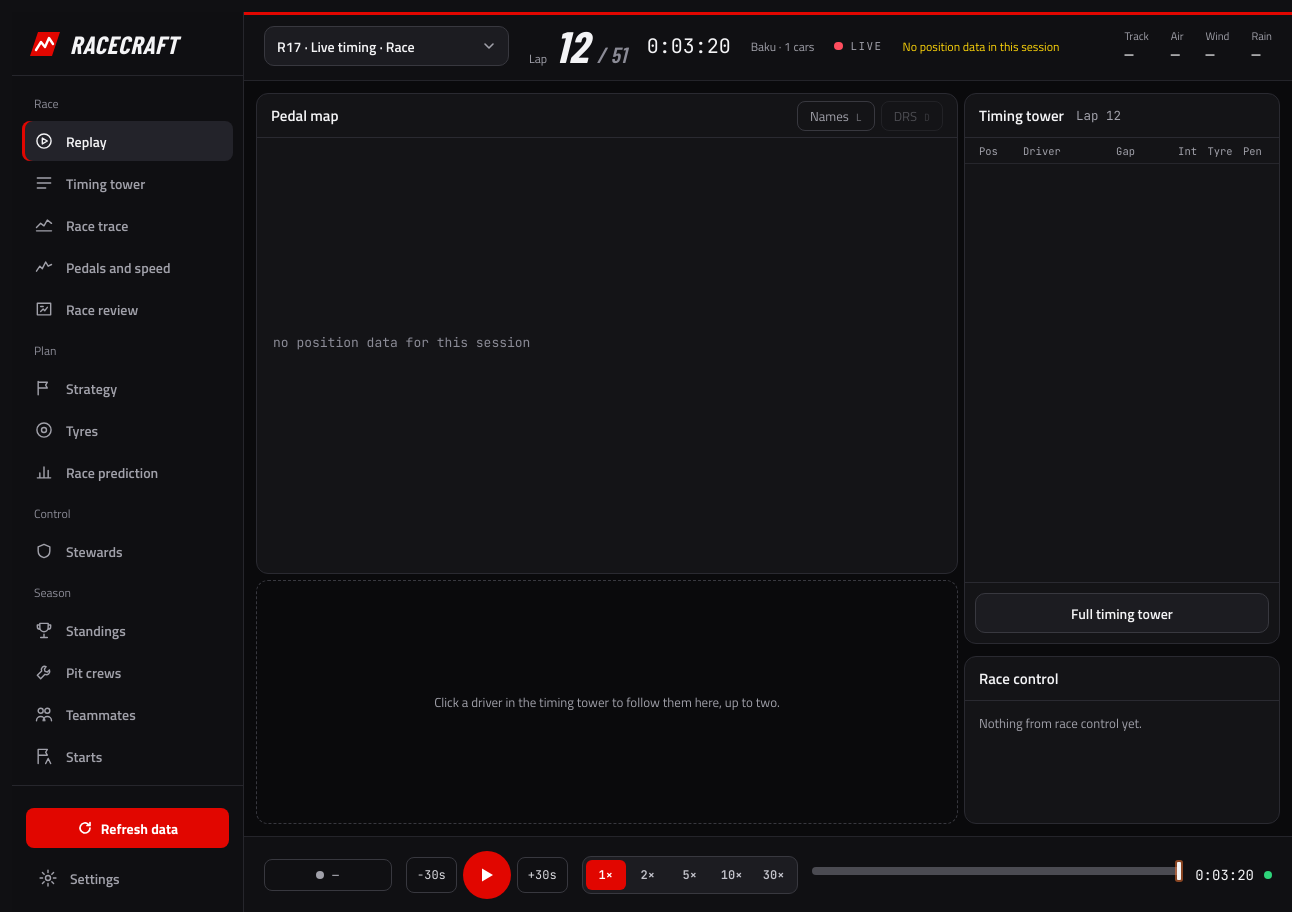
Test: App nudging a live clock › −30s stops following, and a later lap does not pull the clock forward
Expected: the text "LIVE" is shown, x1=834 y1=39 x2=883 y2=53
Click the button named "Back 30 seconds": [431, 874] box x1=406 y1=856 x2=457 y2=892
Wait 10000 ms
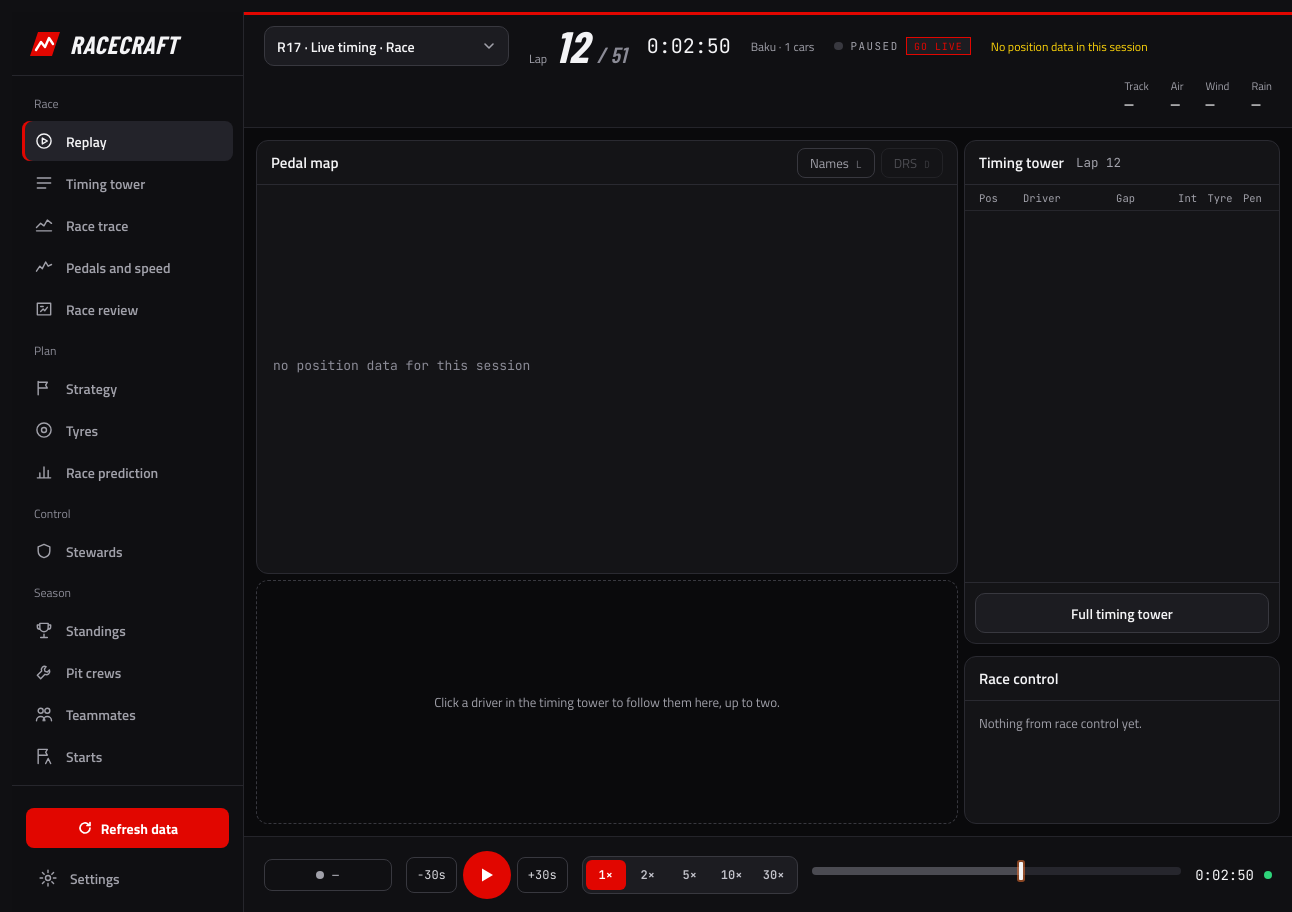
Expected: the text "PAUSED" is shown, x1=850 y1=39 x2=899 y2=53
Expected: the button "Go live" is shown, x1=906 y1=37 x2=971 y2=55
